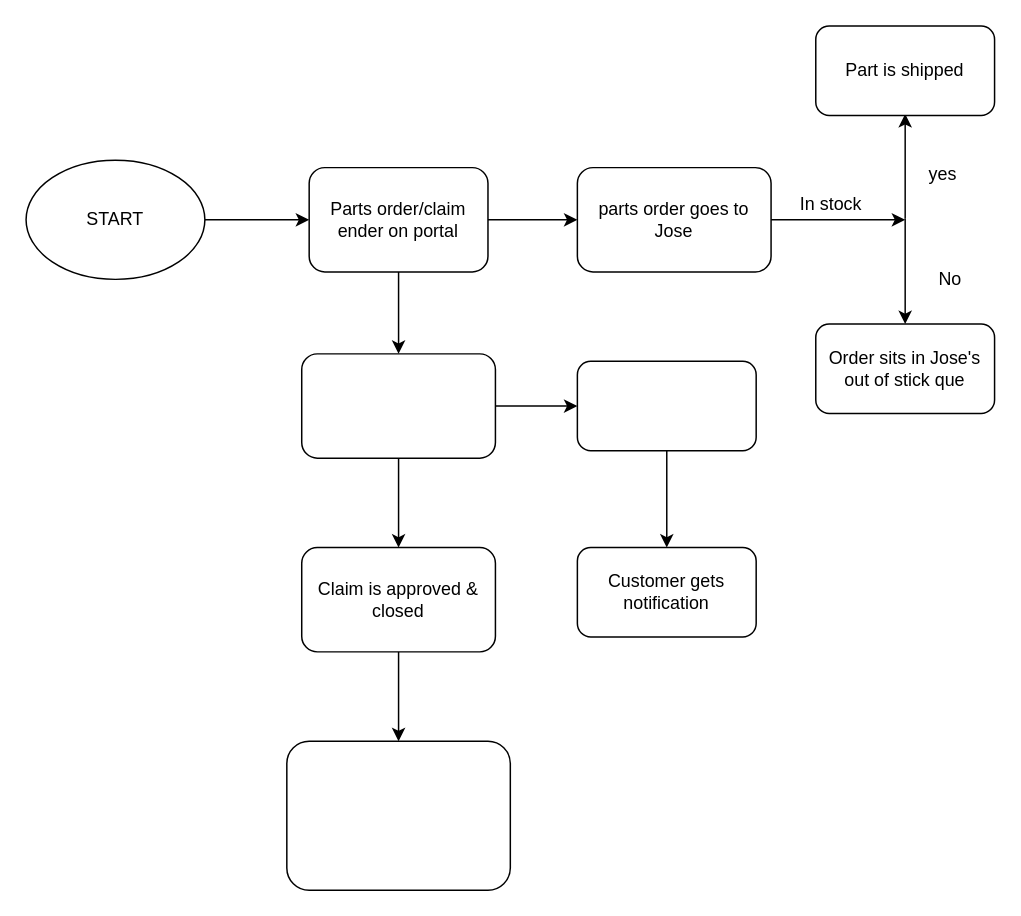
Image size: 1021x916. Some labels were removed from this diagram. The shapes that lost their labels are listed below. From the top down, each one's centre as x and y in pixels, then its label:
At pixel 397 405: "Claim is received by CSR or Cindy".
At pixel 666 405: "Claim is denied".
At pixel 397 815: "Customer gets credit invoice or authorization to return for inspection".
